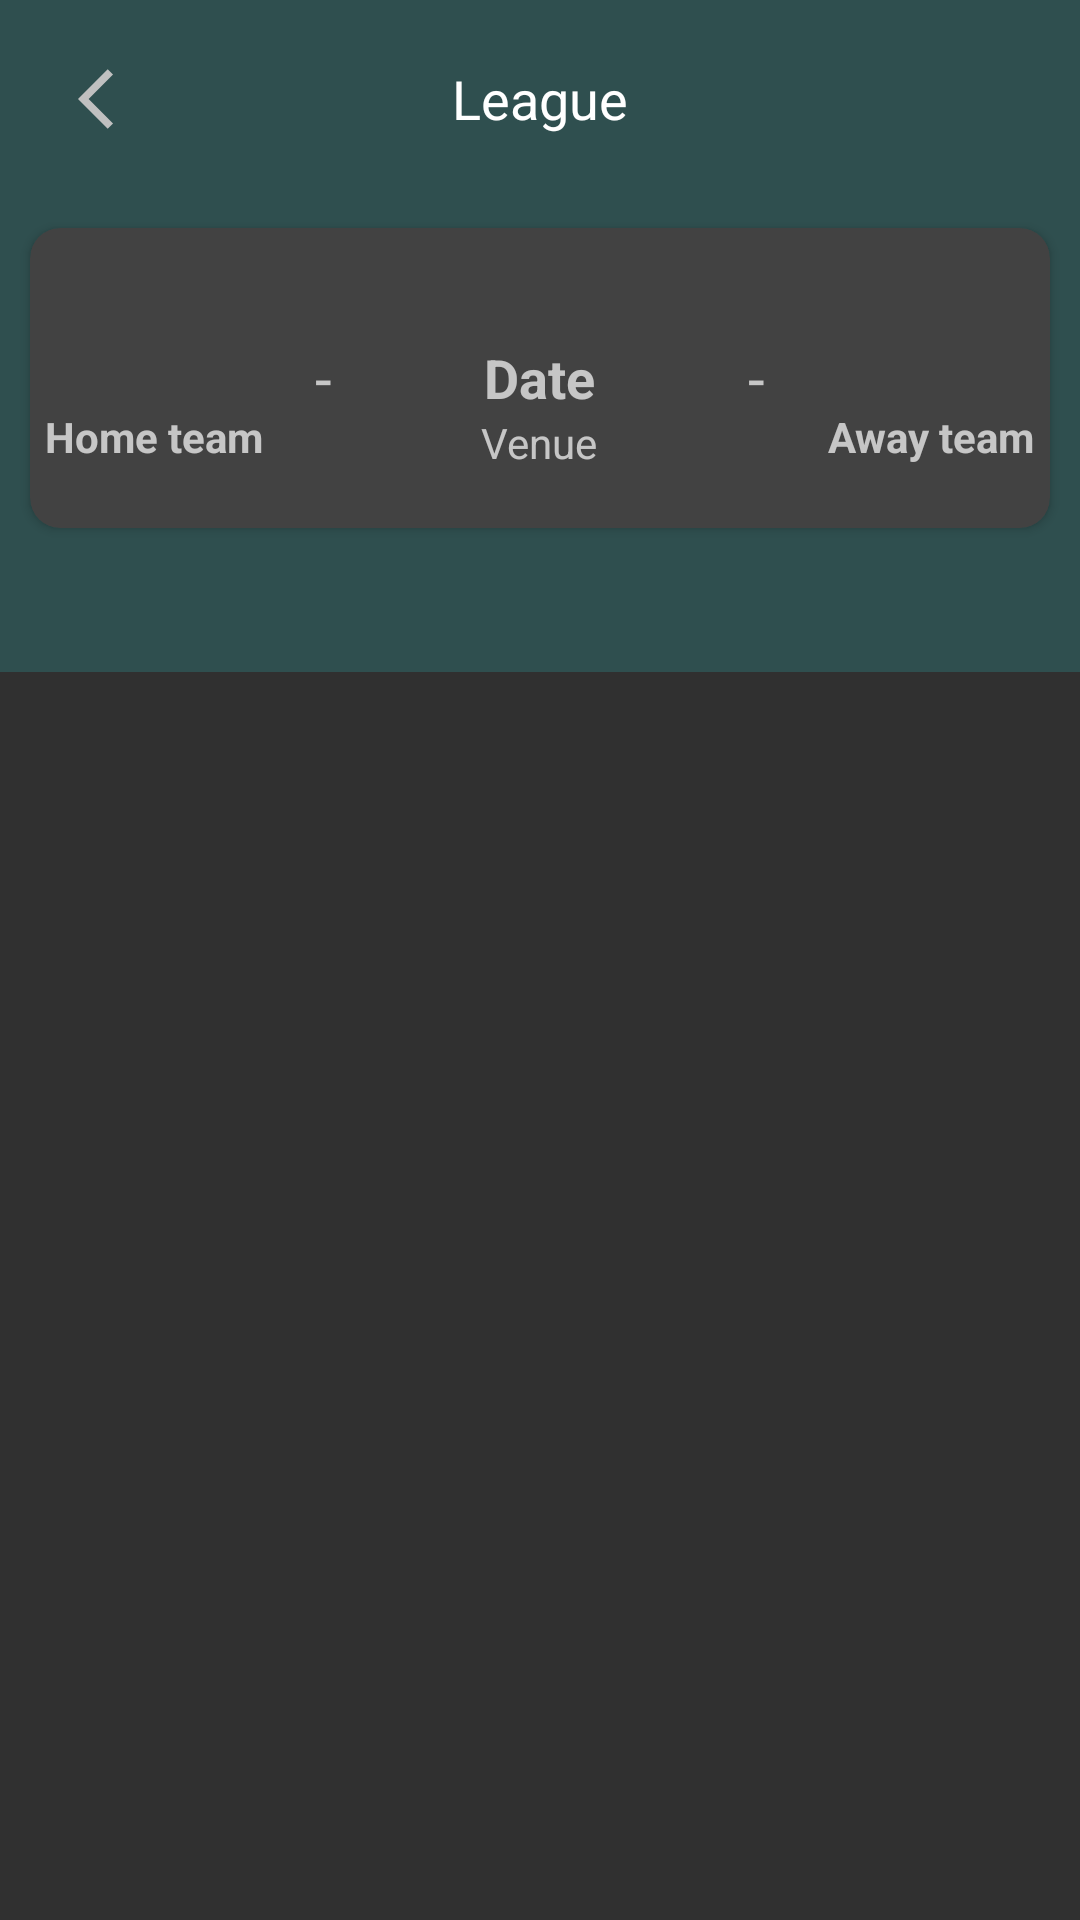

Locate icon controls on the screen. Image size 1080 × 1920, boxes as (x1, y1, x2, y2).
arrow back: (78, 69, 113, 129)
